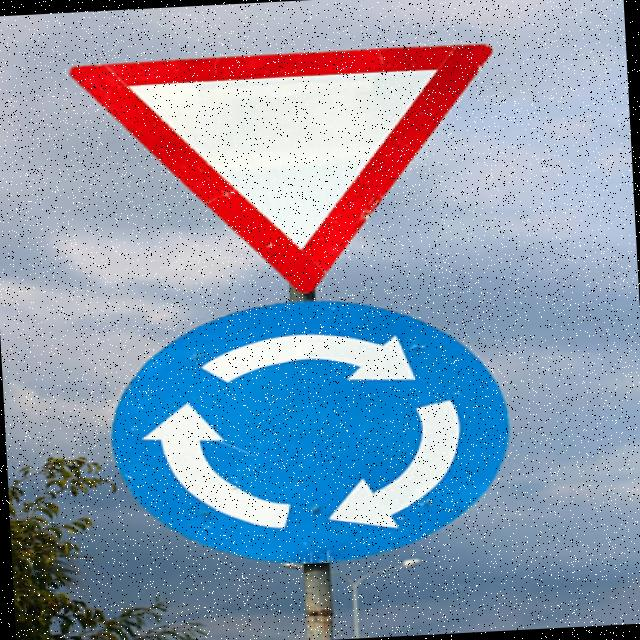round_about: (100, 284, 522, 577)
